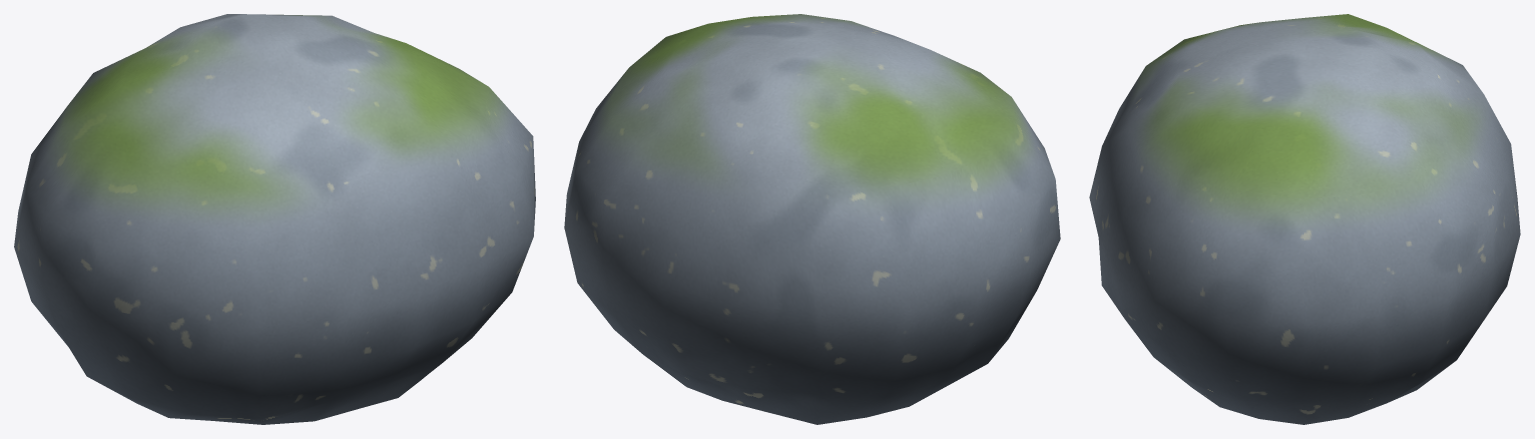
Rendered from Roca_A.fbx.
3 renders of one model, left to right at view 1: azimuth 30°, elevation 25°; view 2: azimuth 150°, elevation 25°; view 3: azimuth 270°, elevation 25°, orthographic. The views are drawn at different scales.
Visible parts, largest first — view 1: Malla; view 2: Malla; view 3: Malla.
Boxes of the visible parts, x1=… form: Malla: x1=14, y1=14, x2=535, y2=424; Malla: x1=564, y1=14, x2=1060, y2=424; Malla: x1=1089, y1=14, x2=1520, y2=424.
Bounding box in the file's own units: 2.43 × 1.72 × 2.04.
Materials: 1 (1 with a texture image).
